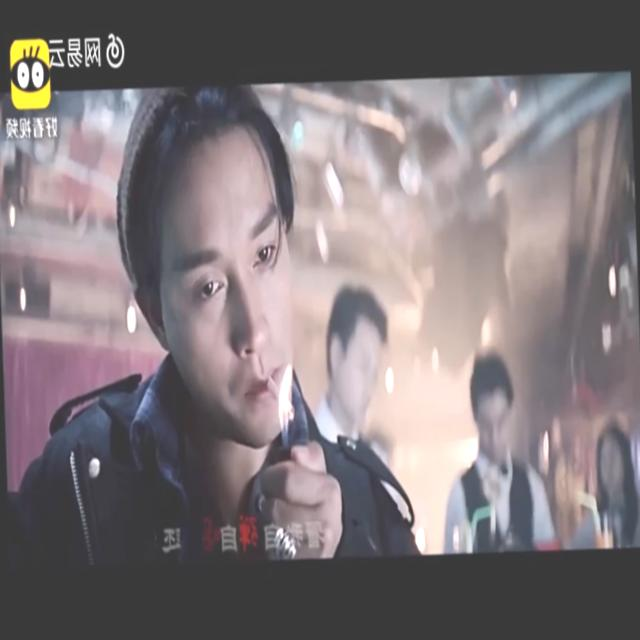smoke: (264, 372, 296, 412)
